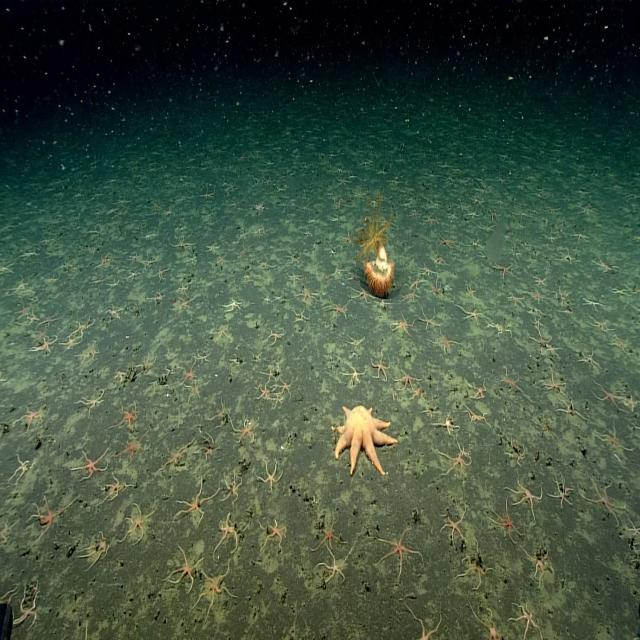brittle-stars: (586, 476, 625, 524), (377, 530, 416, 574), (177, 480, 214, 523), (198, 568, 230, 612), (405, 607, 444, 640), (32, 497, 64, 537), (123, 504, 154, 545), (512, 600, 545, 638), (167, 548, 199, 587), (492, 502, 521, 544), (460, 543, 488, 586), (471, 606, 504, 640), (511, 479, 542, 515), (75, 447, 108, 480), (319, 548, 349, 584), (13, 590, 38, 630), (442, 508, 468, 546), (72, 606, 100, 640), (121, 433, 150, 465), (598, 422, 627, 454), (215, 515, 240, 551), (85, 532, 110, 568), (165, 441, 191, 474), (527, 550, 552, 584), (440, 452, 469, 480), (262, 519, 288, 550), (314, 520, 340, 551), (103, 473, 128, 503), (420, 390, 445, 420), (594, 380, 618, 409), (552, 476, 573, 509), (234, 416, 258, 444), (261, 461, 284, 490), (82, 388, 106, 415), (108, 364, 132, 390), (224, 473, 244, 504), (10, 454, 31, 483), (341, 328, 370, 349), (118, 403, 139, 431), (541, 371, 564, 396), (33, 335, 57, 358), (434, 332, 458, 355), (89, 220, 113, 243), (200, 434, 218, 464), (22, 407, 44, 431), (0, 516, 18, 545), (398, 368, 420, 391), (560, 397, 582, 420), (581, 348, 602, 372), (212, 398, 230, 425), (538, 226, 561, 247), (500, 370, 520, 394), (464, 406, 488, 426), (409, 378, 425, 407), (460, 304, 482, 325), (250, 220, 271, 242), (418, 307, 438, 330), (372, 355, 391, 379), (509, 440, 526, 466), (40, 307, 61, 328), (74, 312, 94, 334), (19, 242, 39, 264), (137, 354, 156, 377), (84, 342, 102, 366), (439, 414, 460, 434), (392, 314, 411, 336), (529, 331, 551, 350), (594, 257, 616, 276), (163, 358, 182, 380), (345, 362, 365, 382), (327, 299, 346, 320), (467, 378, 486, 399), (490, 318, 510, 337), (487, 201, 505, 222), (476, 220, 498, 237), (590, 315, 610, 333), (330, 192, 348, 212), (406, 207, 423, 228), (495, 262, 514, 280), (352, 284, 371, 302), (613, 336, 631, 355), (189, 378, 207, 397), (180, 361, 197, 381), (250, 344, 265, 366), (584, 293, 602, 311), (62, 335, 82, 351), (225, 354, 246, 369), (627, 518, 640, 542), (226, 297, 244, 314), (268, 328, 285, 346), (12, 277, 30, 294), (555, 288, 572, 306), (299, 286, 318, 302), (105, 274, 124, 290), (326, 210, 341, 230), (559, 247, 576, 264), (214, 323, 229, 342), (326, 241, 339, 262), (509, 290, 526, 306), (259, 254, 275, 271), (176, 298, 193, 314), (44, 273, 61, 289), (279, 378, 294, 396), (107, 304, 122, 322), (256, 382, 270, 401), (625, 392, 639, 411), (286, 270, 302, 286), (547, 343, 563, 359), (441, 234, 457, 250), (632, 540, 640, 572), (155, 267, 170, 284), (293, 307, 308, 324), (98, 252, 113, 268), (196, 350, 212, 365), (420, 263, 435, 279), (580, 203, 596, 218), (201, 184, 216, 200), (175, 237, 192, 251), (429, 278, 442, 296), (464, 283, 478, 299), (572, 231, 588, 245), (530, 290, 546, 304), (214, 252, 228, 268), (530, 314, 544, 330), (16, 301, 30, 317), (0, 262, 14, 278), (142, 254, 157, 268), (150, 289, 164, 304), (285, 250, 299, 265), (403, 289, 419, 302), (410, 276, 424, 290), (126, 269, 140, 283), (467, 236, 481, 250), (614, 284, 628, 298), (464, 208, 479, 221), (177, 281, 190, 296), (377, 299, 392, 312), (27, 310, 40, 325), (273, 392, 285, 408), (435, 250, 447, 266), (342, 232, 354, 248), (128, 250, 142, 263), (447, 208, 460, 222), (534, 274, 546, 289), (459, 445, 471, 460), (546, 204, 561, 216), (207, 241, 220, 254), (185, 252, 198, 265), (266, 366, 278, 380), (333, 266, 345, 280), (144, 228, 156, 242), (92, 275, 106, 287), (263, 290, 273, 306), (338, 175, 350, 188), (471, 195, 483, 208), (40, 236, 53, 248), (227, 179, 239, 192), (253, 201, 264, 215), (238, 227, 248, 242), (302, 229, 314, 241), (236, 242, 248, 254), (534, 186, 546, 198), (429, 199, 442, 210), (424, 214, 437, 225), (0, 370, 6, 392), (576, 186, 588, 197), (479, 183, 490, 194), (390, 175, 400, 187), (337, 164, 347, 176), (514, 248, 524, 260), (348, 171, 358, 183), (378, 166, 388, 178), (632, 233, 640, 247), (633, 282, 640, 297)
